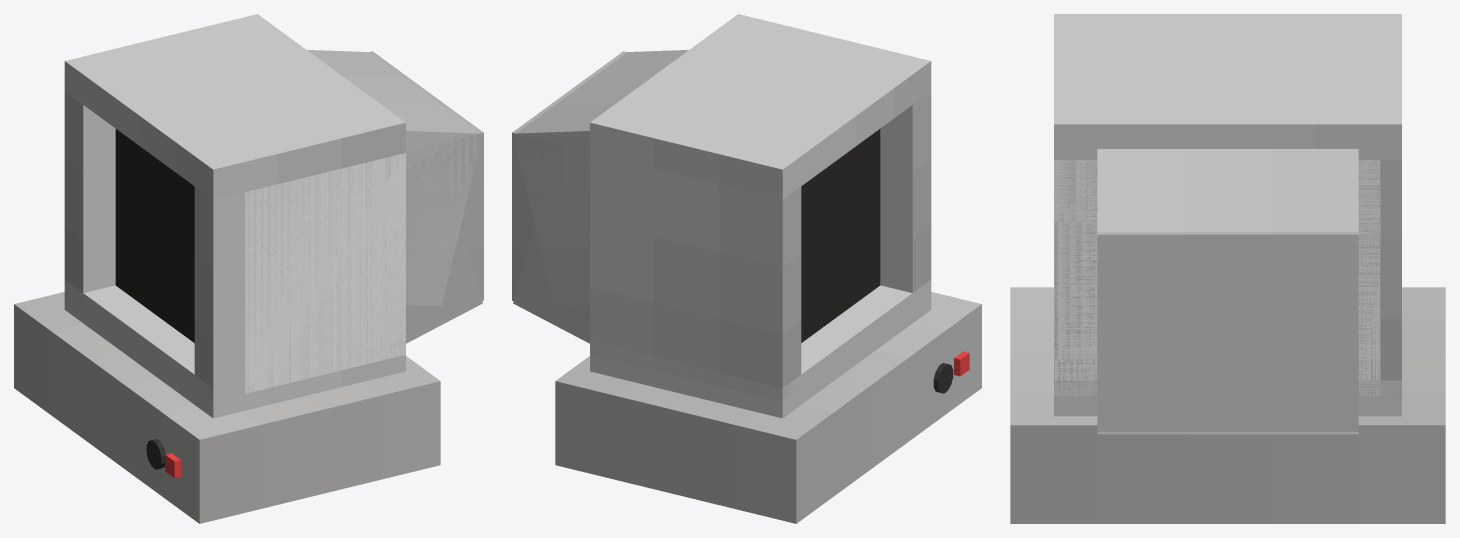
File: monitor.gltf
The picture shows the model from 3 angles, left to right: view 1: azimuth 30°, elevation 25°; view 2: azimuth 150°, elevation 25°; view 3: azimuth 270°, elevation 25°; orthographic projection. The views are drawn at different scales.
Parts seen in each view (by area): view 1: kloc?, ekran, gora, cube (×3), prawa-sciana, dol, lewa-sciana; view 2: kloc?, lewa-sciana, gora, cube (×3), dol, ekran, prawa-sciana; view 3: cube (×3), kloc?, gora, ekran, lewa-sciana, prawa-sciana, dol.
Part boxes in pixels (bbox=[...]): kloc?: bbox=[14, 292, 440, 523]; ekran: bbox=[115, 129, 405, 393]; gora: bbox=[64, 14, 405, 199]; cube (×3): bbox=[307, 50, 483, 343]; prawa-sciana: bbox=[194, 153, 405, 400]; dol: bbox=[64, 280, 405, 418]; lewa-sciana: bbox=[64, 91, 115, 300]; kloc?: bbox=[555, 292, 981, 523]; lewa-sciana: bbox=[590, 153, 801, 401]; gora: bbox=[590, 14, 931, 199]; cube (×3): bbox=[512, 50, 688, 343]; dol: bbox=[590, 280, 931, 418]; ekran: bbox=[801, 129, 880, 342]; prawa-sciana: bbox=[880, 91, 931, 292]; cube (×3): bbox=[1097, 149, 1358, 434]; kloc?: bbox=[1010, 287, 1445, 523]; gora: bbox=[1054, 14, 1401, 159]; ekran: bbox=[1054, 160, 1380, 396]; lewa-sciana: bbox=[1358, 160, 1401, 395]; prawa-sciana: bbox=[1054, 160, 1097, 395]; dol: bbox=[1054, 380, 1401, 416].
Bounding box in the file's own units: 0.3188 × 0.3094 × 0.3125.
Materials: 7 (6 with a texture image).
